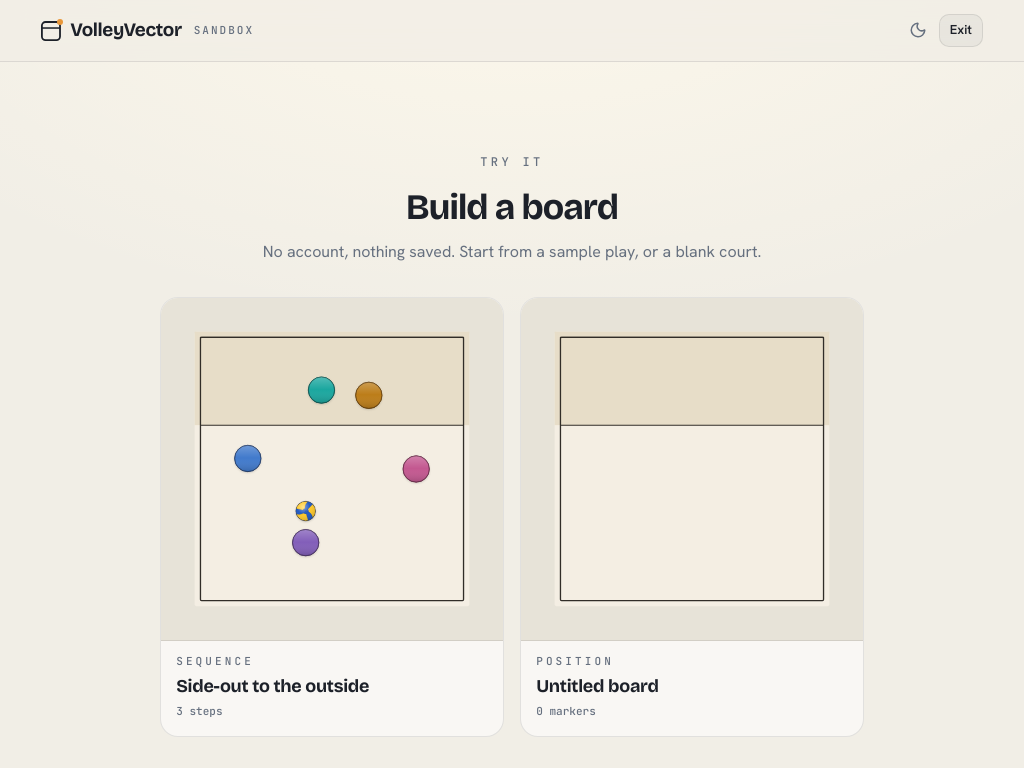
Test: the Try it sandbox › the sample card opens the real board view with JSON and print export actions
The width and height of the screenshot is (1024, 768).
Click the button "Sequence Side-out to the outside 3 steps" at (332, 517), box [160,297,504,737]
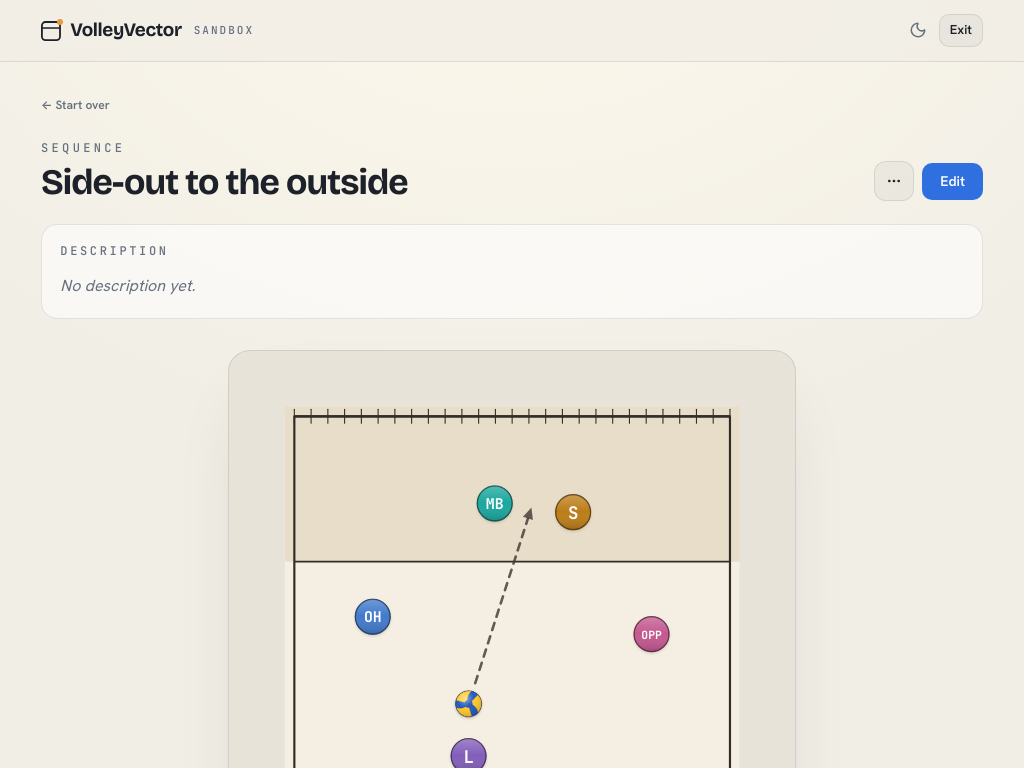
Now the heading "Side-out to the outside" is shown, box [41,164,408,201]
Now the button "Edit" is shown, box [922,163,983,200]
Click the button named "Board actions" at (894, 181), box [874,161,914,201]
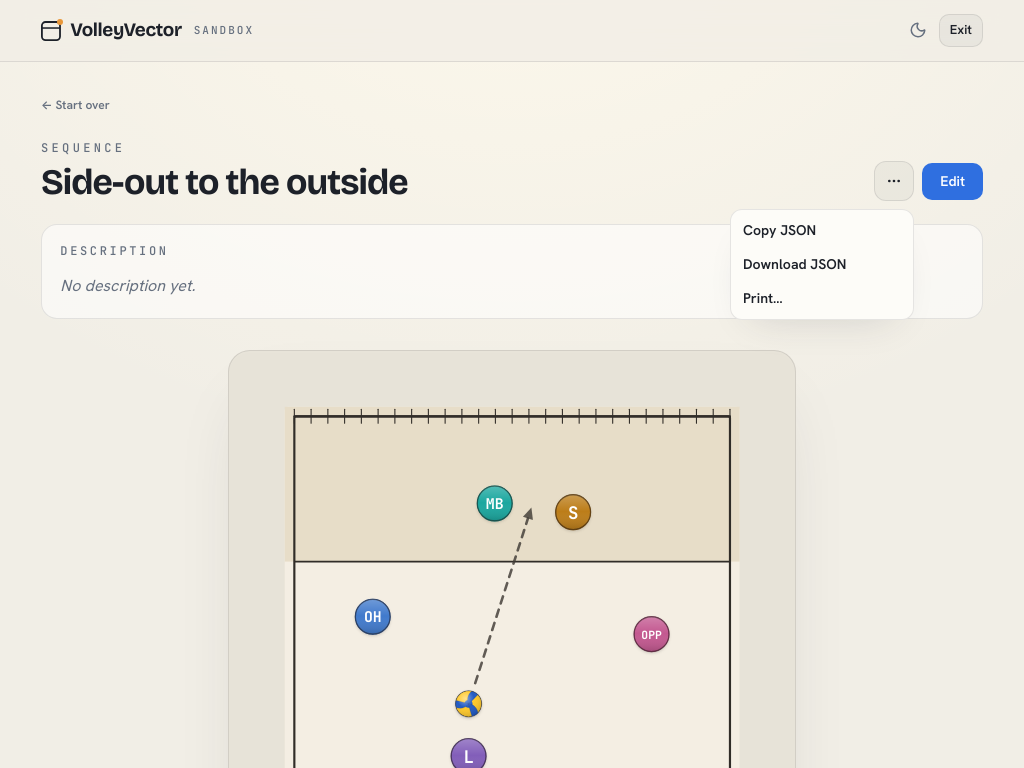
Now the menu item "Copy JSON" is shown, box [743,221,816,239]
Now the menu item "Download JSON" is shown, box [743,255,846,273]
Now the menu item "Print…" is shown, box [743,289,783,307]
